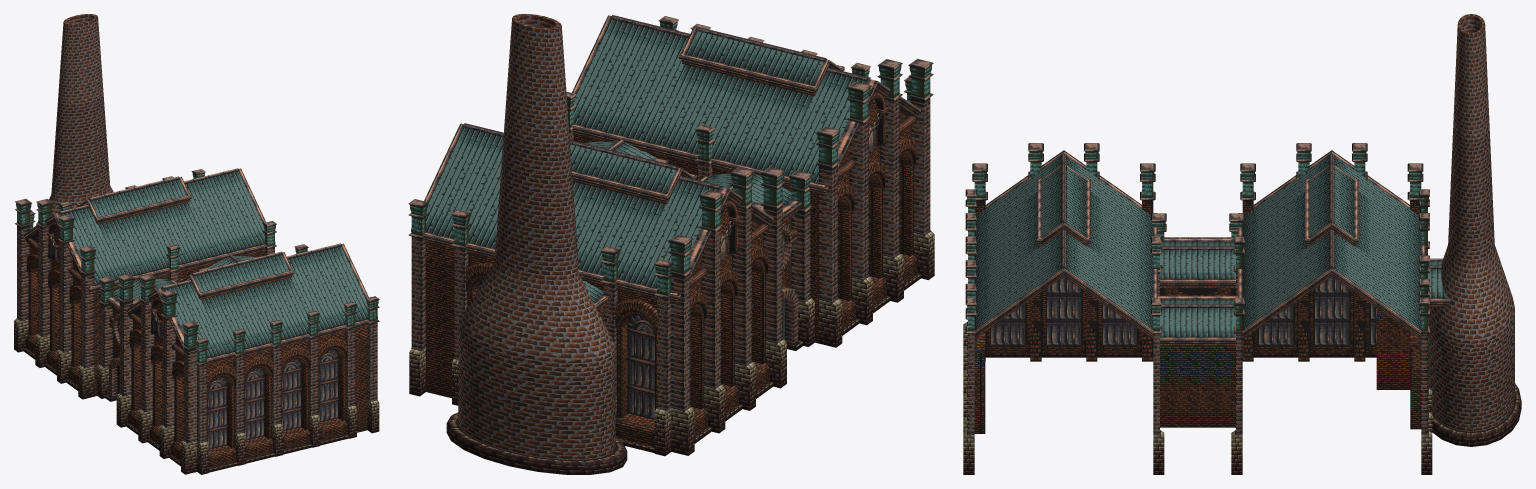
File: EnvBdgMD_Factory_A_Outdoor.FBX
The picture shows the model from 3 angles, left to right: view 1: azimuth 30°, elevation 25°; view 2: azimuth 150°, elevation 25°; view 3: azimuth 270°, elevation 25°; orthographic projection. The views are drawn at different scales.
Parts seen in each view (by area): view 1: EnvBdgMD_Factory_A_Outdoor; view 2: EnvBdgMD_Factory_A_Outdoor; view 3: EnvBdgMD_Factory_A_Outdoor.
Boxes of the visible parts, x1=… form: EnvBdgMD_Factory_A_Outdoor: x1=14, y1=14, x2=379, y2=474; EnvBdgMD_Factory_A_Outdoor: x1=408, y1=14, x2=934, y2=474; EnvBdgMD_Factory_A_Outdoor: x1=963, y1=14, x2=1521, y2=474.
Size of the model in its own units: 1300 by 1900 by 2499.
